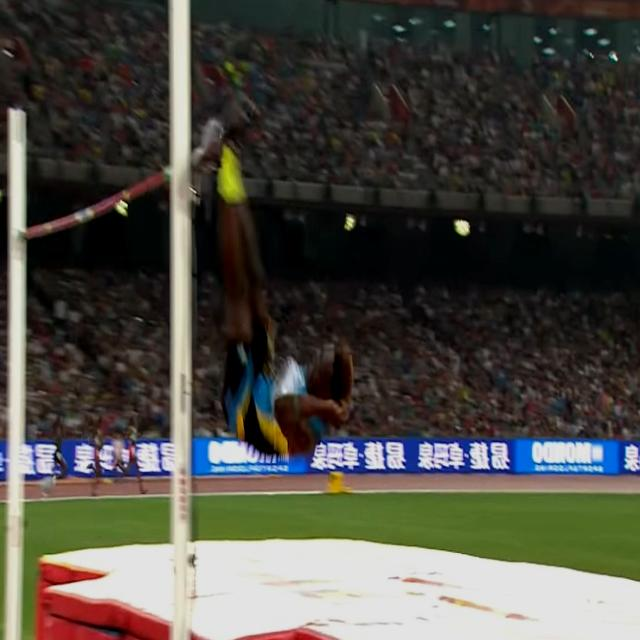land: (216, 95, 356, 457)
